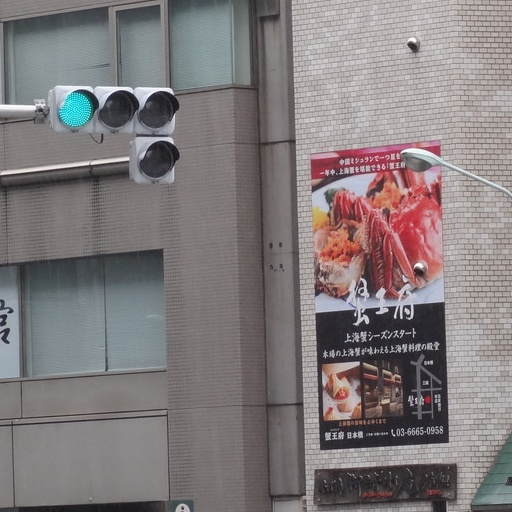Traffic_Signal_Blue: (49, 79, 185, 140)
